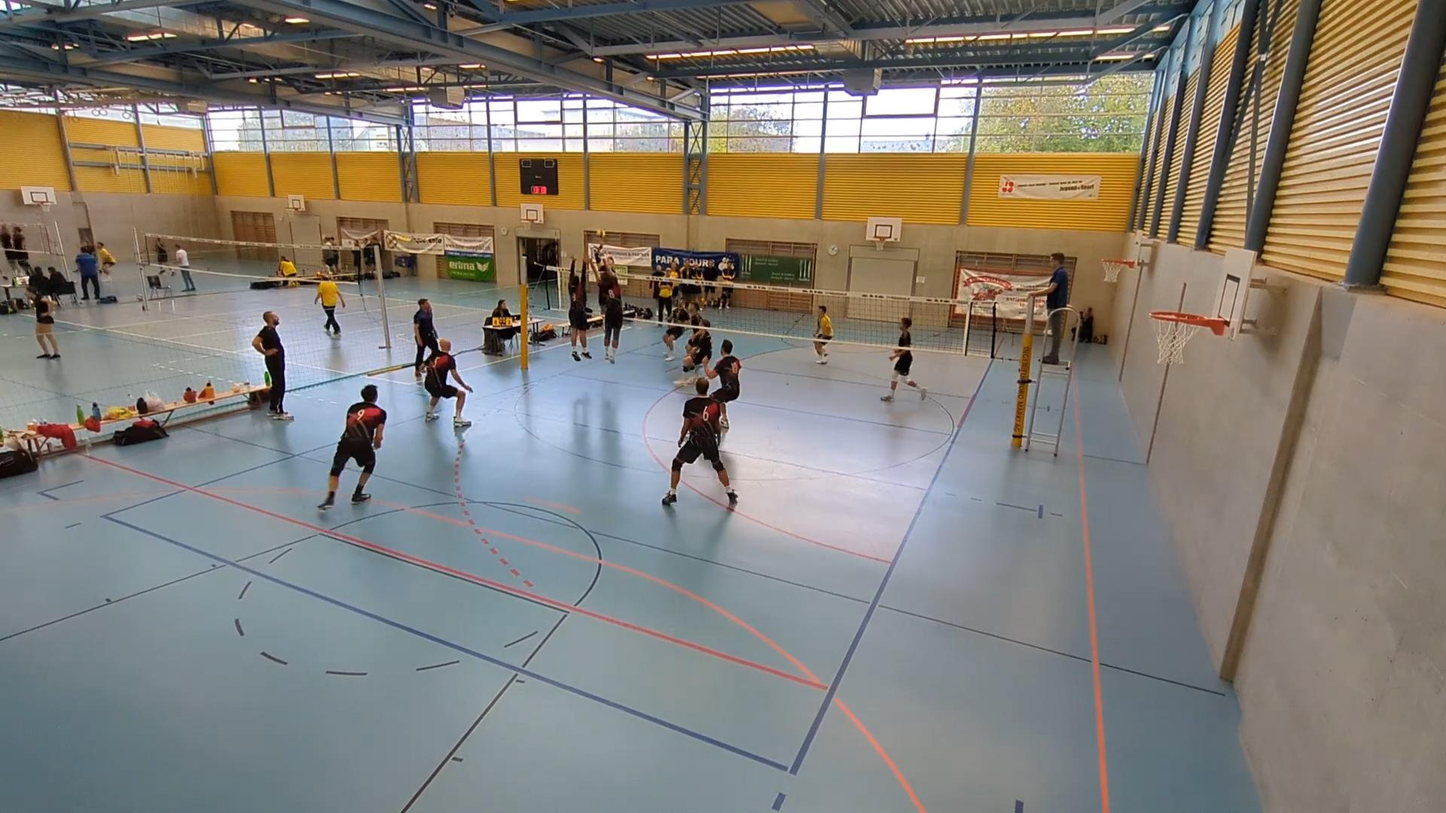attacco: (587, 222, 622, 290)
muro: (589, 253, 627, 367), (563, 250, 594, 362)
